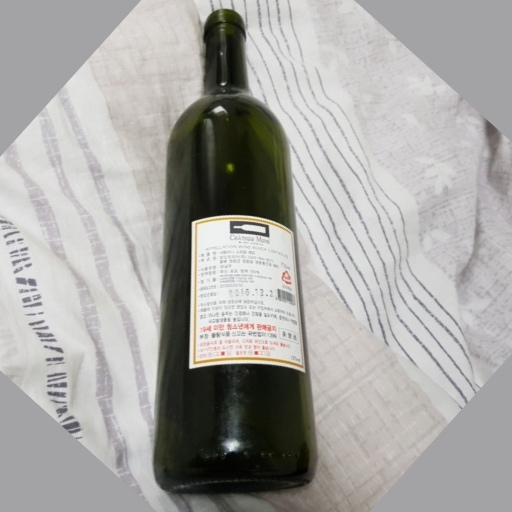Glass_2: (150, 8, 324, 492)
